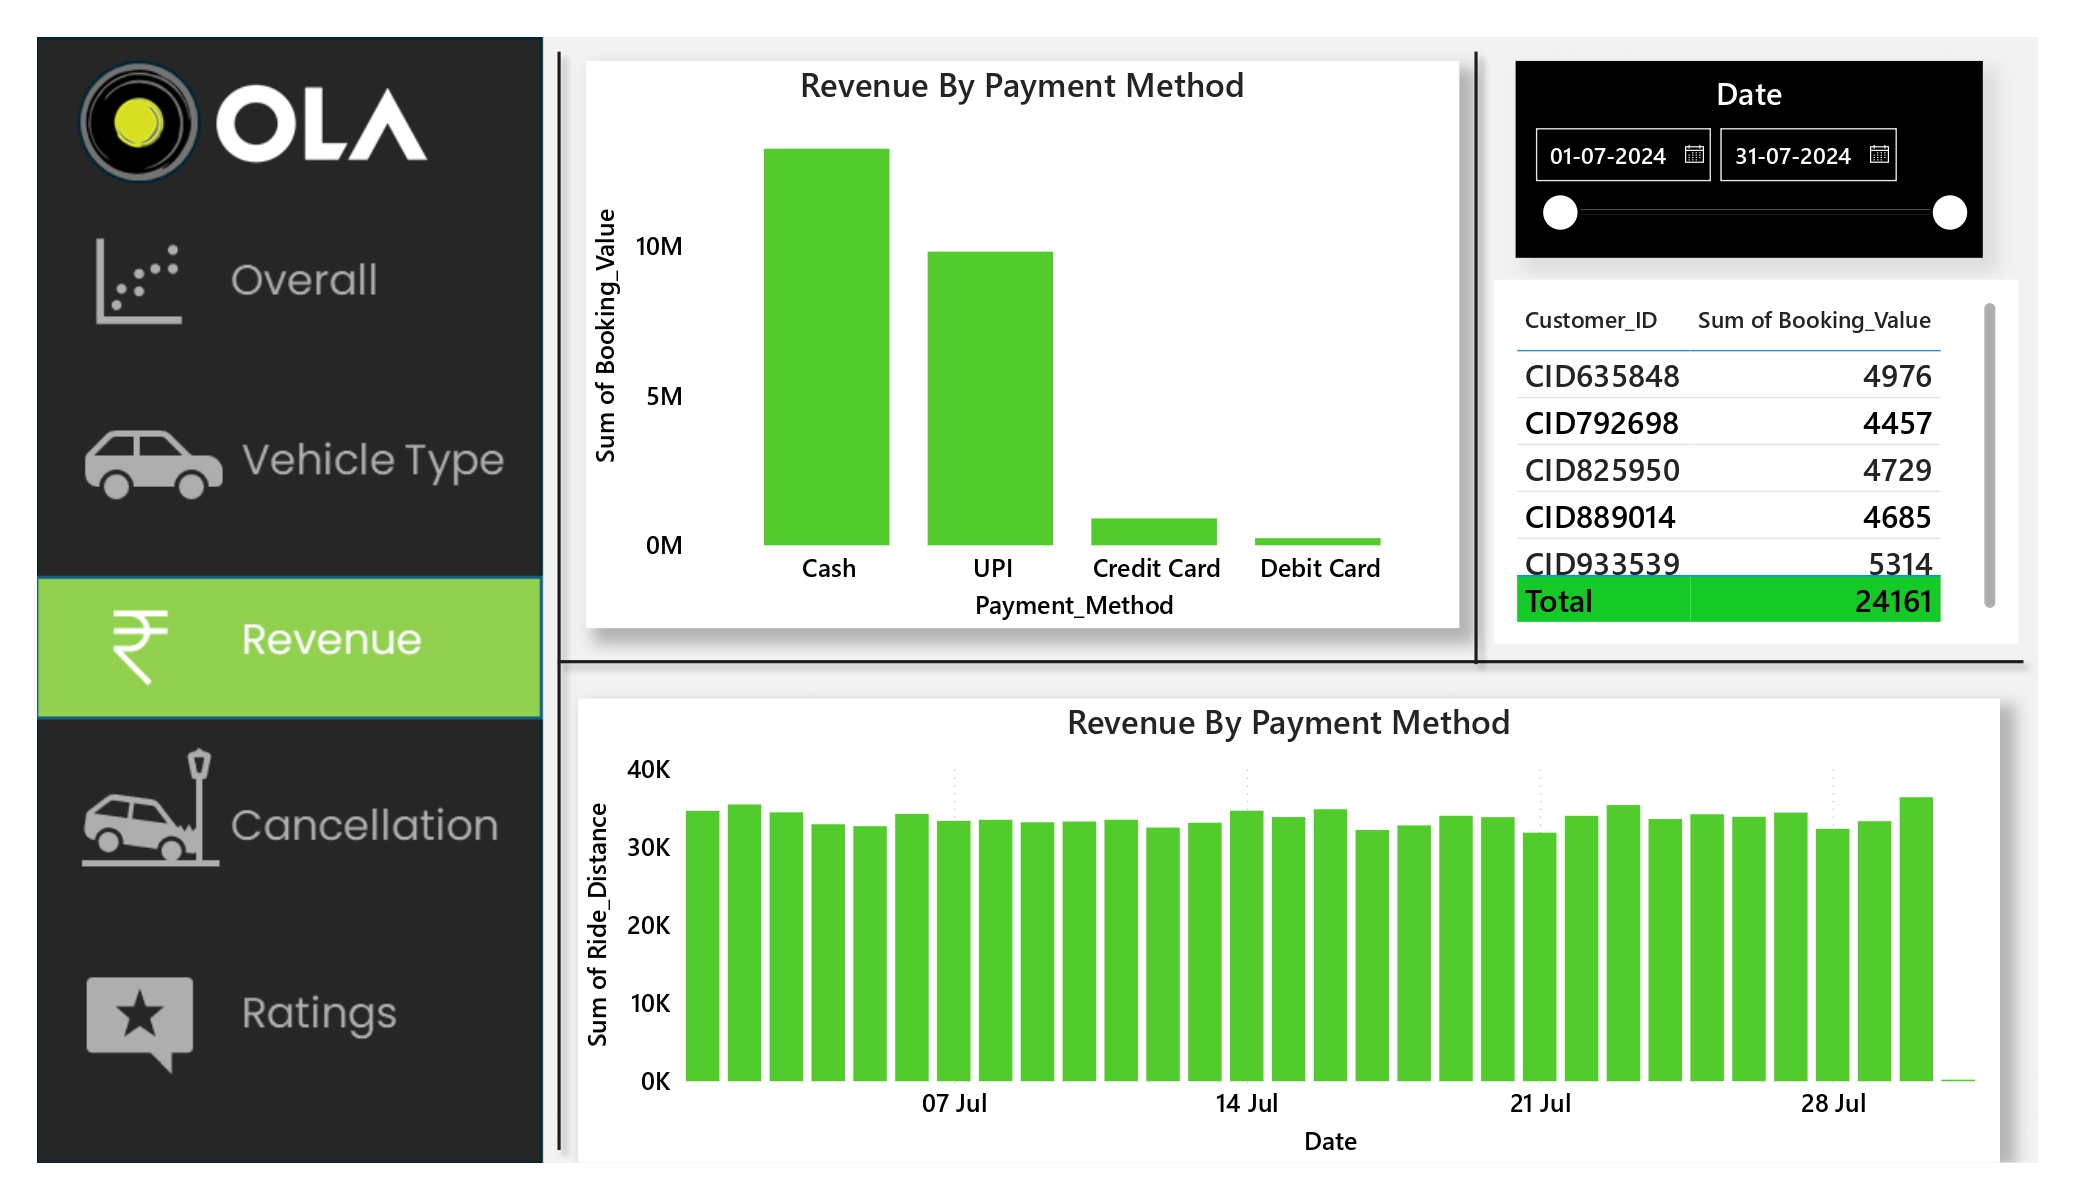

This screenshot's page, from the dashboard's own definition file:
{"tool":"powerbi","page":{"name":"Revenue","canvas":[1280,720],"ordinal":2},"visuals":[{"type":"actionButton","box":[0,342.9,324.3,90],"z":0},{"type":"actionButton","box":[0,452.9,324.3,90],"z":1000},{"type":"actionButton","box":[0,581.4,324.3,90],"z":2000},{"type":"actionButton","box":[0,112.9,324.3,90],"z":3000},{"type":"actionButton","box":[0,342.9,324.3,90],"z":4000},{"type":"actionButton","box":[0,111.4,324.3,85.7],"z":5000},{"type":"actionButton","box":[0,580,324.3,90],"z":6000},{"type":"actionButton","box":[0,218.6,324.3,90],"z":7000},{"type":"actionButton","box":[0,228.6,324.3,90],"z":8000},{"type":"actionButton","box":[0,228.6,324.3,90],"z":9000},{"type":"actionButton","box":[10,238.6,324.3,90],"z":10000},{"type":"actionButton","box":[10,121.4,324.3,85.7],"z":11000},{"type":"actionButton","box":[0,452.9,324.3,90],"z":12000},{"type":"actionButton","box":[10,590,324.3,90],"z":13000},{"type":"actionButton","box":[0,343,324.6,89.3],"z":14000},{"type":"actionButton","box":[0,119.1,324.6,85],"z":15000},{"type":"actionButton","box":[0,223.9,324.6,90.7],"z":16000},{"type":"actionButton","box":[0,455,324.6,89.3],"z":17000},{"type":"actionButton","box":[0,594.3,324.3,90],"z":18000},{"type":"columnChart","title":"Revenue By Payment Method","fields":{"Category":["Bookings.Payment_Method"],"Y":["Sum(Bookings.Booking_Value)"]},"box":[351.1,15.1,559.4,362.8],"z":19000},{"type":"columnChart","title":"Revenue By Payment Method","fields":{"Category":["Bookings.Date"],"Y":["Sum(Bookings.Ride_Distance)"]},"box":[346,423.3,910.4,297.3],"z":20000},{"type":"slicer","title":"Date","fields":{"Values":["Bookings.Date"]},"box":[945.7,15.1,299,126],"z":21000},{"type":"tableEx","fields":{"Values":["Bookings.Customer_ID","Sum(Bookings.Booking_Value)"]},"box":[932.3,154.5,336,233.5],"z":22000},{"type":"shape","box":[324.2,376.3,955.8,47],"z":23000},{"type":"shape","box":[315.8,0,35.3,720.6],"z":24000},{"type":"shape","box":[910.4,0,21.8,409.9],"z":25000}]}

Visuals, with their boxes on the page's 1280x720 design canvas (x1, y1, x2, y2). These are canvas units, not pixel positions in the 2075x1200 screenshot, which may show the page scaled, cropped or inside an application window:
actionButton: locate(0, 343, 324, 433)
actionButton: locate(0, 453, 324, 543)
actionButton: locate(0, 581, 324, 671)
actionButton: locate(0, 113, 324, 203)
actionButton: locate(0, 343, 324, 433)
actionButton: locate(0, 111, 324, 197)
actionButton: locate(0, 580, 324, 670)
actionButton: locate(0, 219, 324, 309)
actionButton: locate(0, 229, 324, 319)
actionButton: locate(0, 229, 324, 319)
actionButton: locate(10, 239, 334, 329)
actionButton: locate(10, 121, 334, 207)
actionButton: locate(0, 453, 324, 543)
actionButton: locate(10, 590, 334, 680)
actionButton: locate(0, 343, 325, 432)
actionButton: locate(0, 119, 325, 204)
actionButton: locate(0, 224, 325, 315)
actionButton: locate(0, 455, 325, 544)
actionButton: locate(0, 594, 324, 684)
"Revenue By Payment Method" columnChart: locate(351, 15, 910, 378)
"Revenue By Payment Method" columnChart: locate(346, 423, 1256, 721)
"Date" slicer: locate(946, 15, 1245, 141)
tableEx - Bookings.Customer_ID x Sum(Bookings.Booking_Value): locate(932, 154, 1268, 388)
shape: locate(324, 376, 1280, 423)
shape: locate(316, 0, 351, 721)
shape: locate(910, 0, 932, 410)
